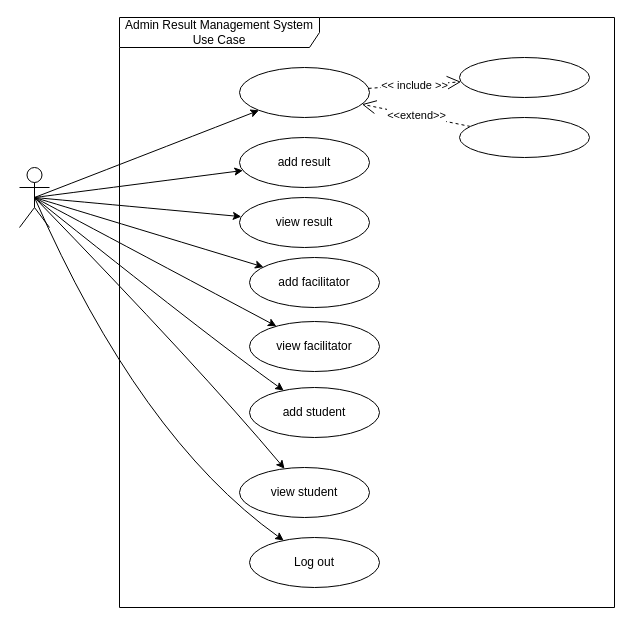
This 632x625 diagram has some shape labels left out. Here are the shapes that lost their labels. From the top down, the centre of each, then its label:
the point at 304,92: Log in
the point at 524,77: validate
the point at 524,137: Display Error
the point at 34,197: Admin
